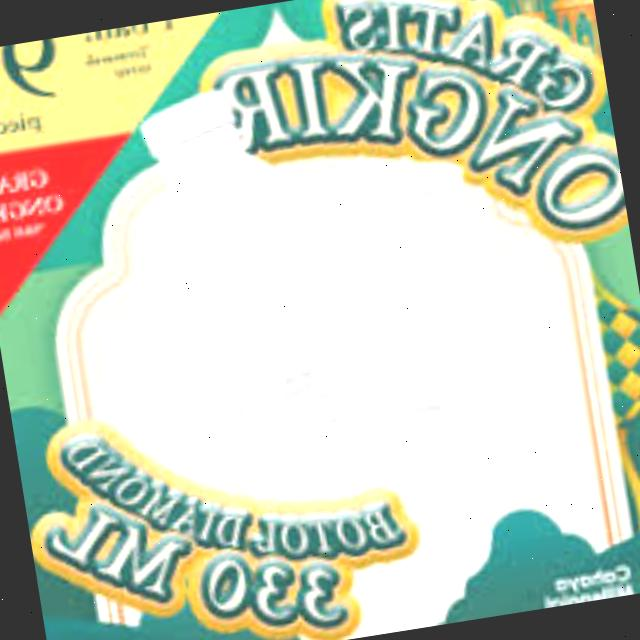trash: (132, 66, 446, 610), (326, 146, 542, 554)
